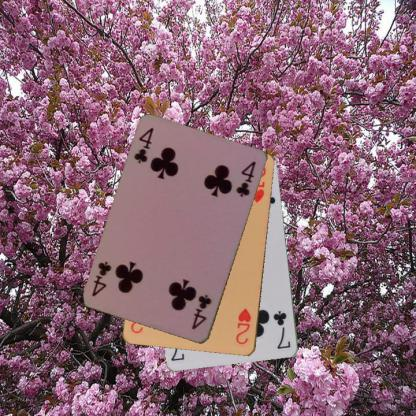2h: (234, 306, 252, 346)
4c: (131, 125, 156, 165), (189, 291, 213, 332)
7c: (271, 308, 292, 350)
